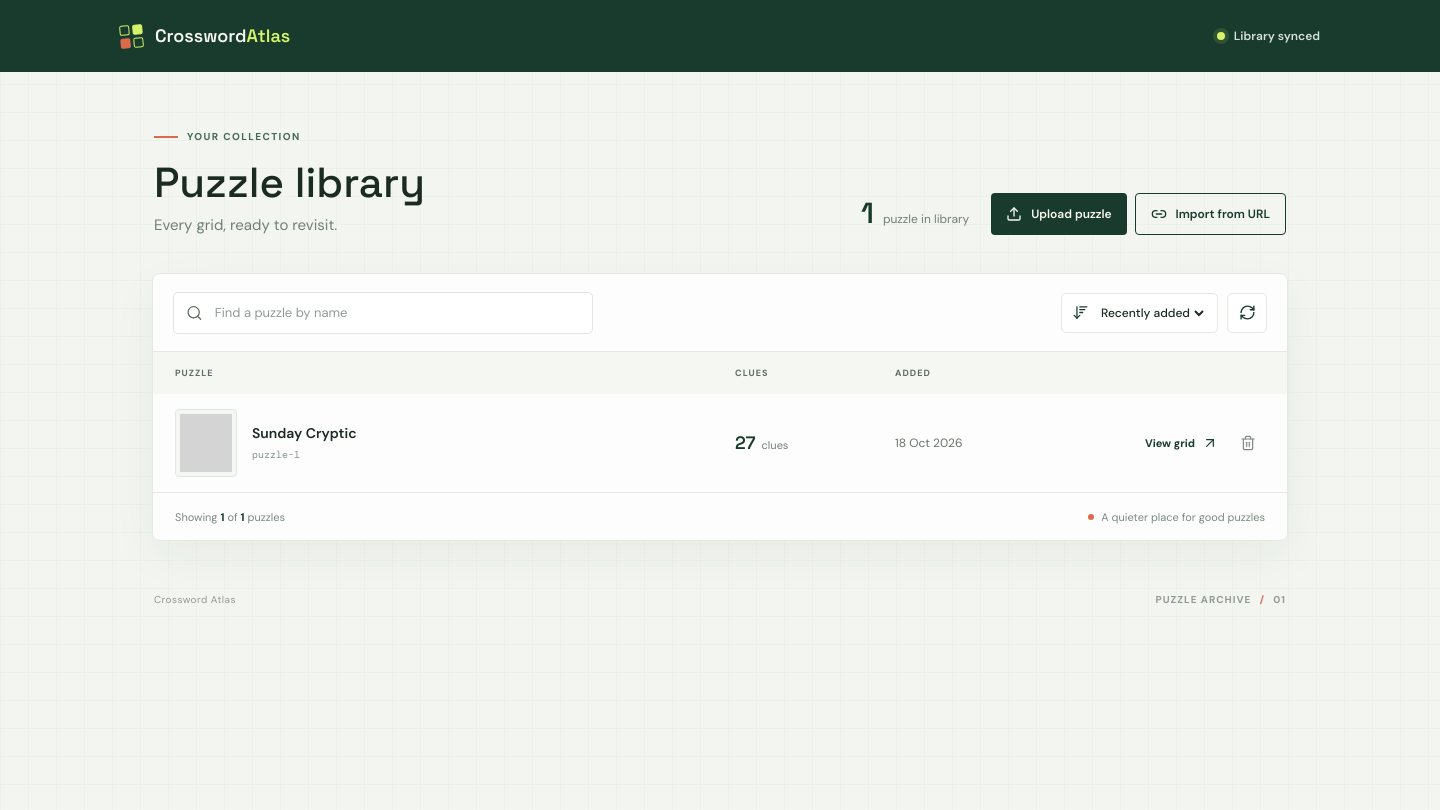
deletes a puzzle from the library after confirmation
This screenshot has width=1440, height=810.
Expected: the heading "Sunday Cryptic" is shown, [252,424,357,443]
Click the button named "Delete Sunday Cryptic": (1248, 443) [1231,426,1265,460]
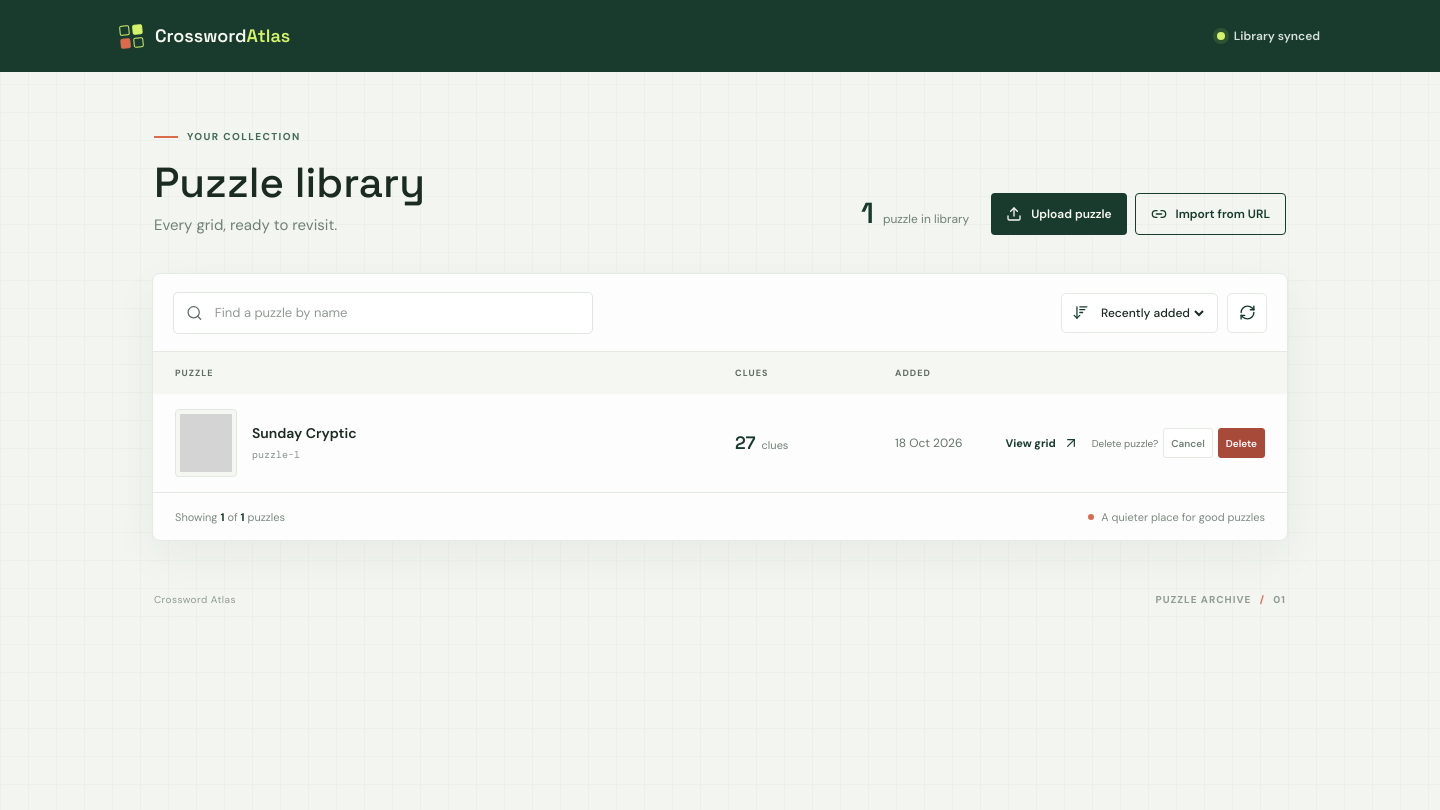
Click the button with aria-label "Confirm delete Sunday Cryptic": (1241, 443) [1218,428,1265,458]
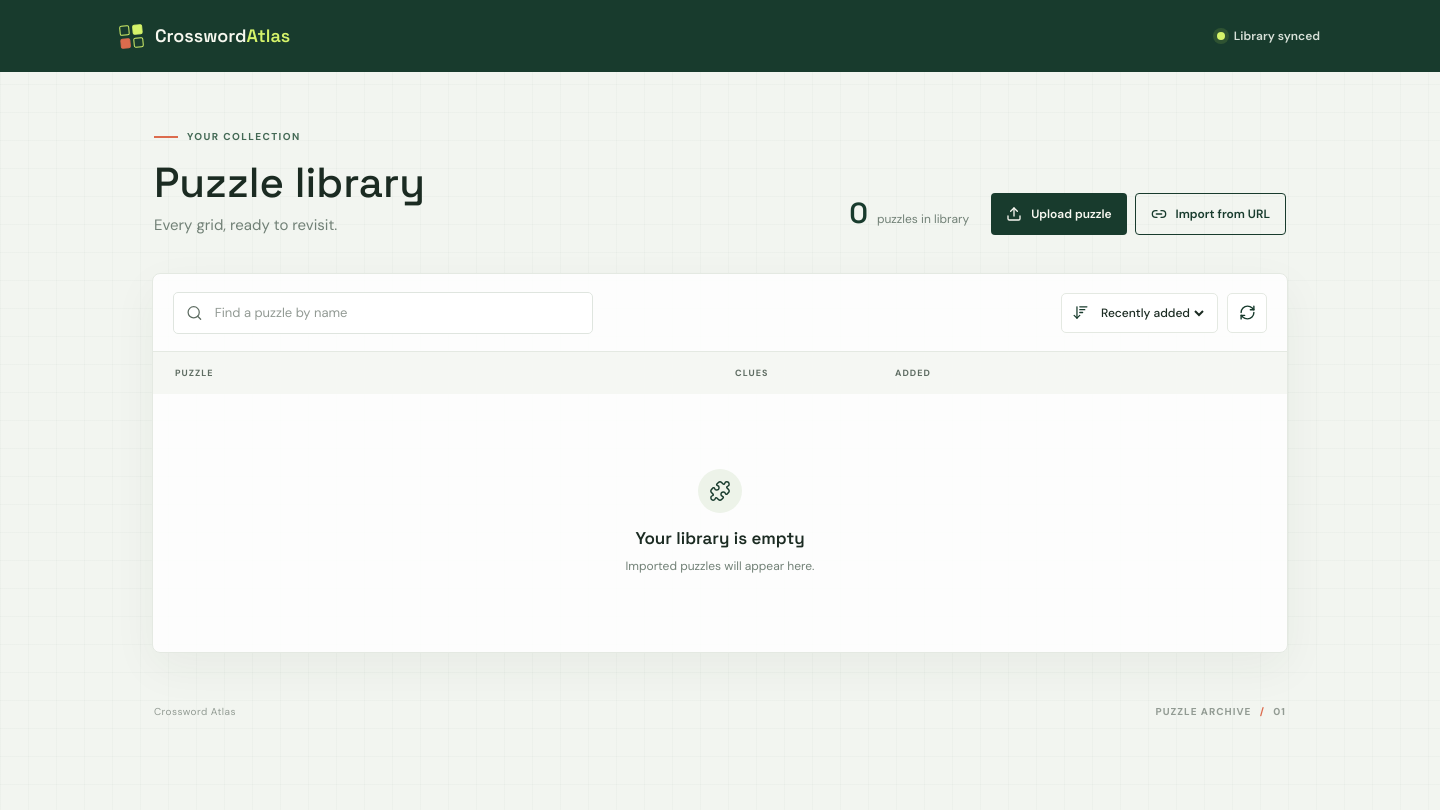
Now the heading "Your library is empty" is shown, box [635,527,805,550]
